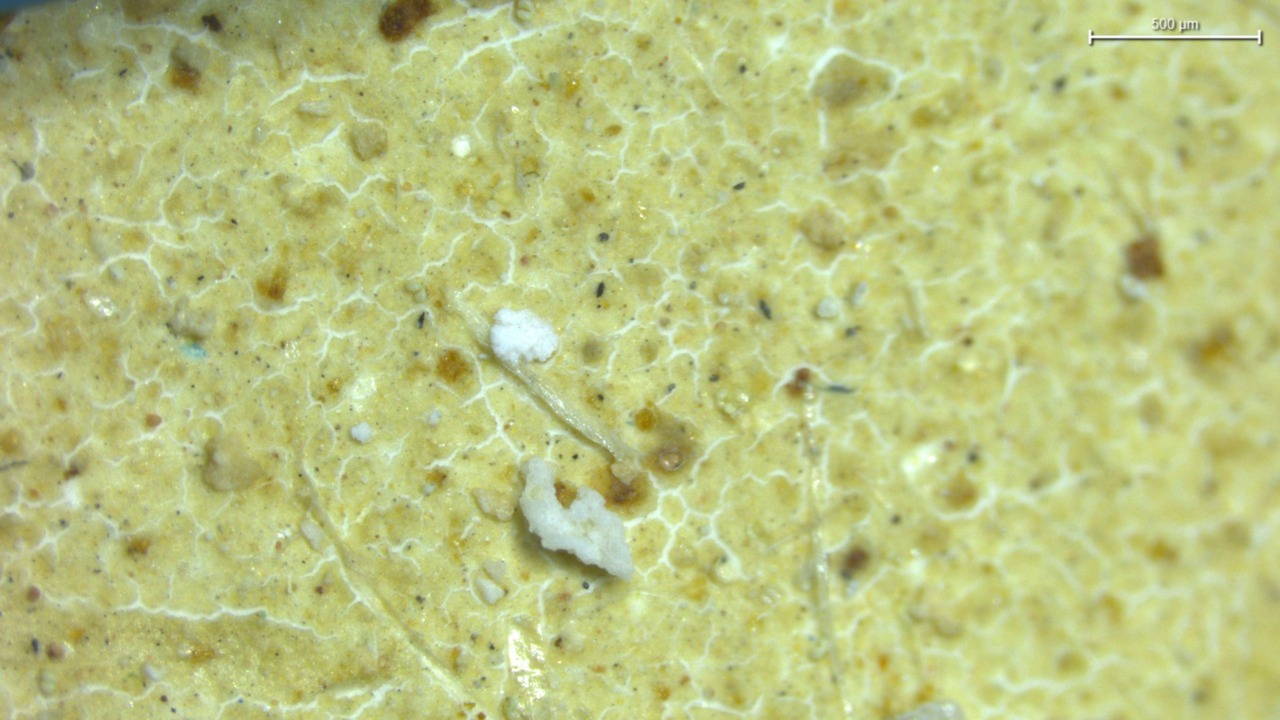microplastic_fragment: (519, 457, 634, 582), (490, 306, 563, 370), (350, 422, 372, 443)
